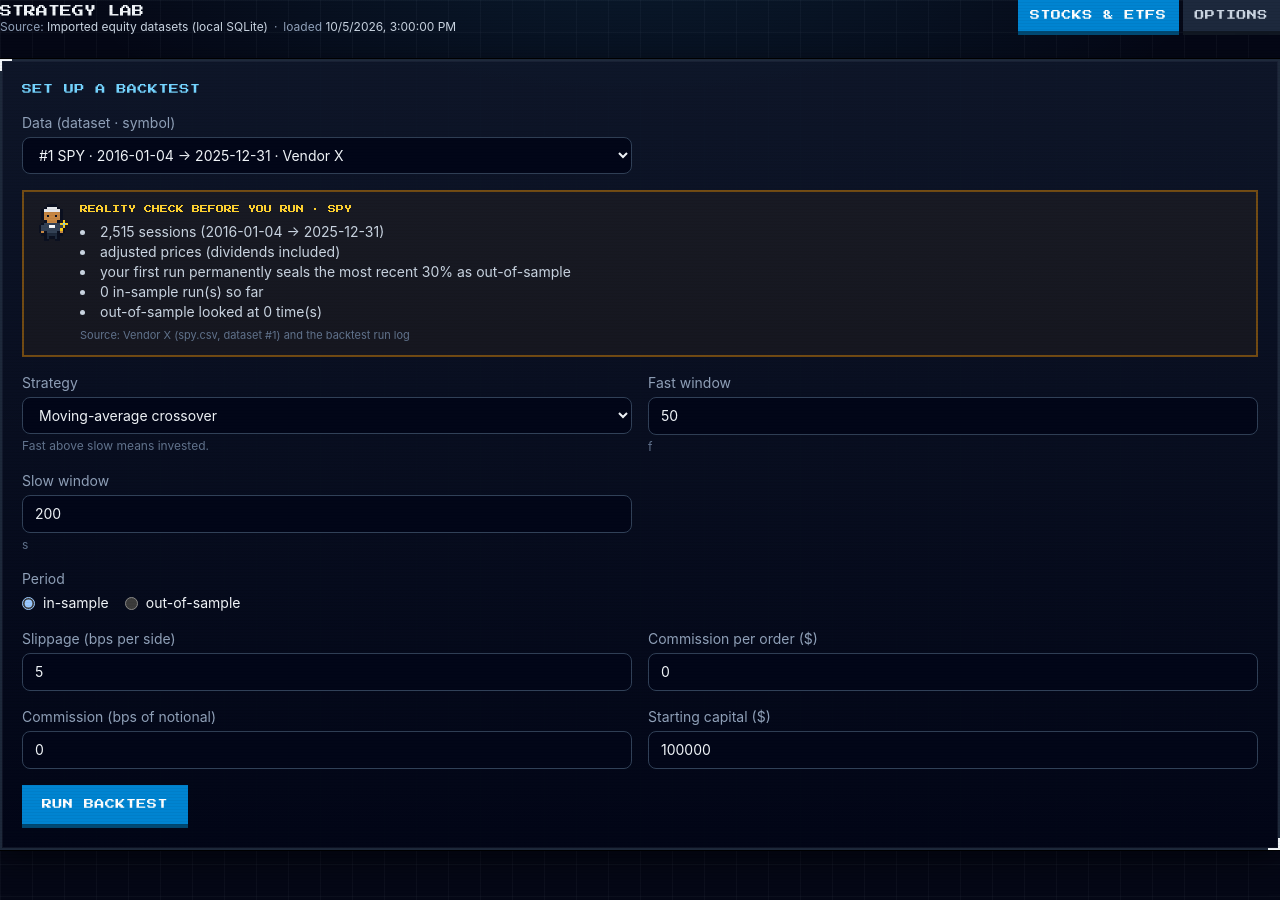
Scenario: StrategyLabPage › puts the reality check first and flags exactly what the backend flagged
What coordinates should you click on to do the following:
click the button "Run backtest"
I would click on:
 (105, 807)
Its box is top-left (22, 785), bottom-right (188, 828).
(page scrolled)
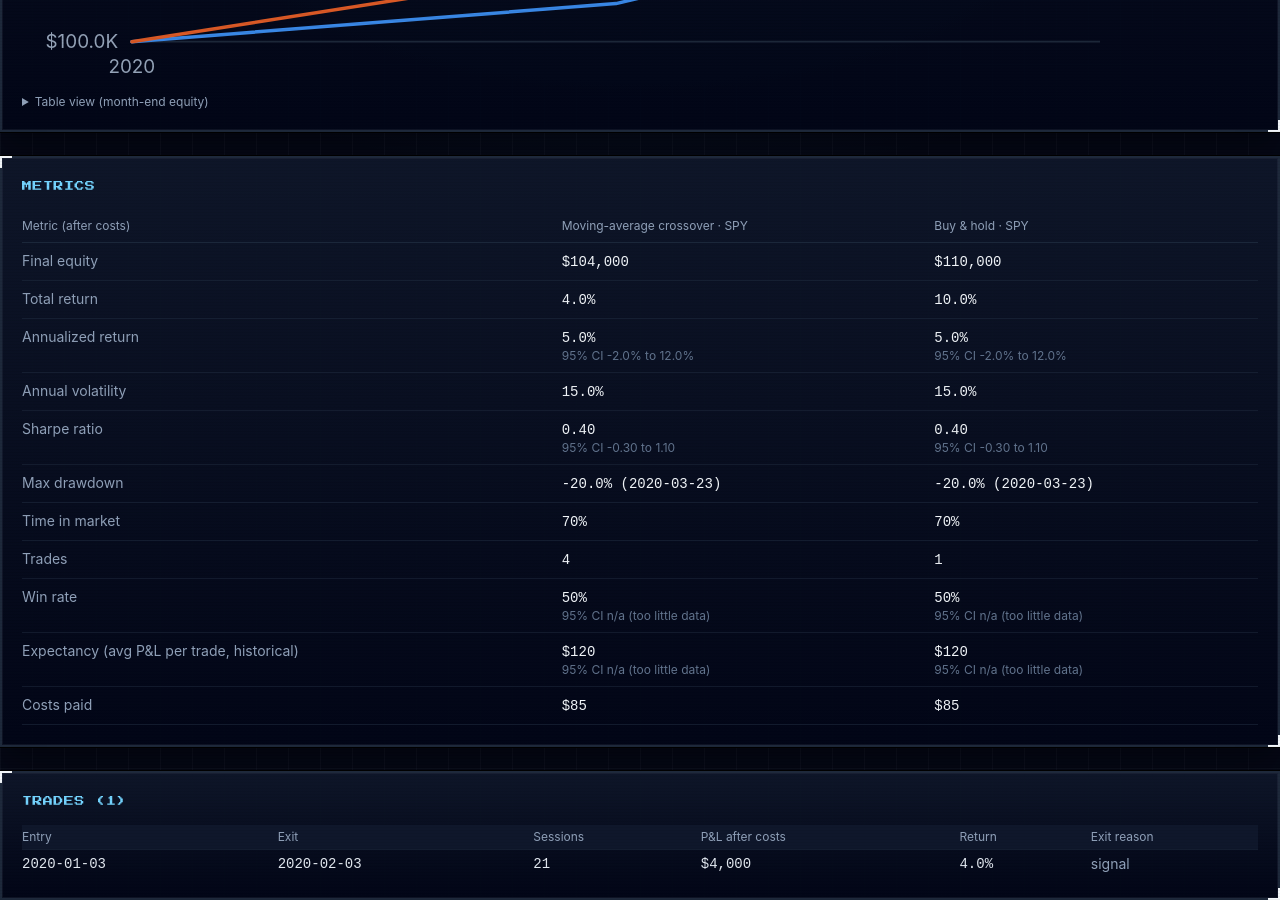
expect the 1st text "95% CI n/a (too little data)" is shown: met, box top-left (562, 608), bottom-right (710, 623)
